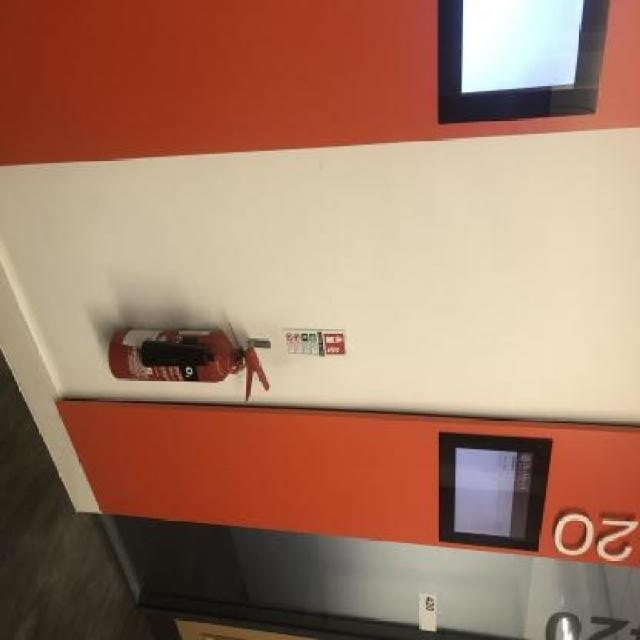fire extinguisher: (108, 326, 270, 403)
